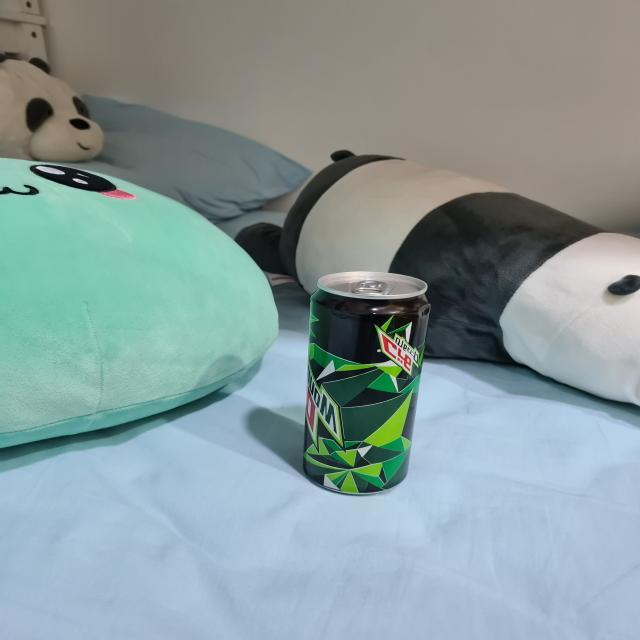can: (303, 269, 432, 498)
